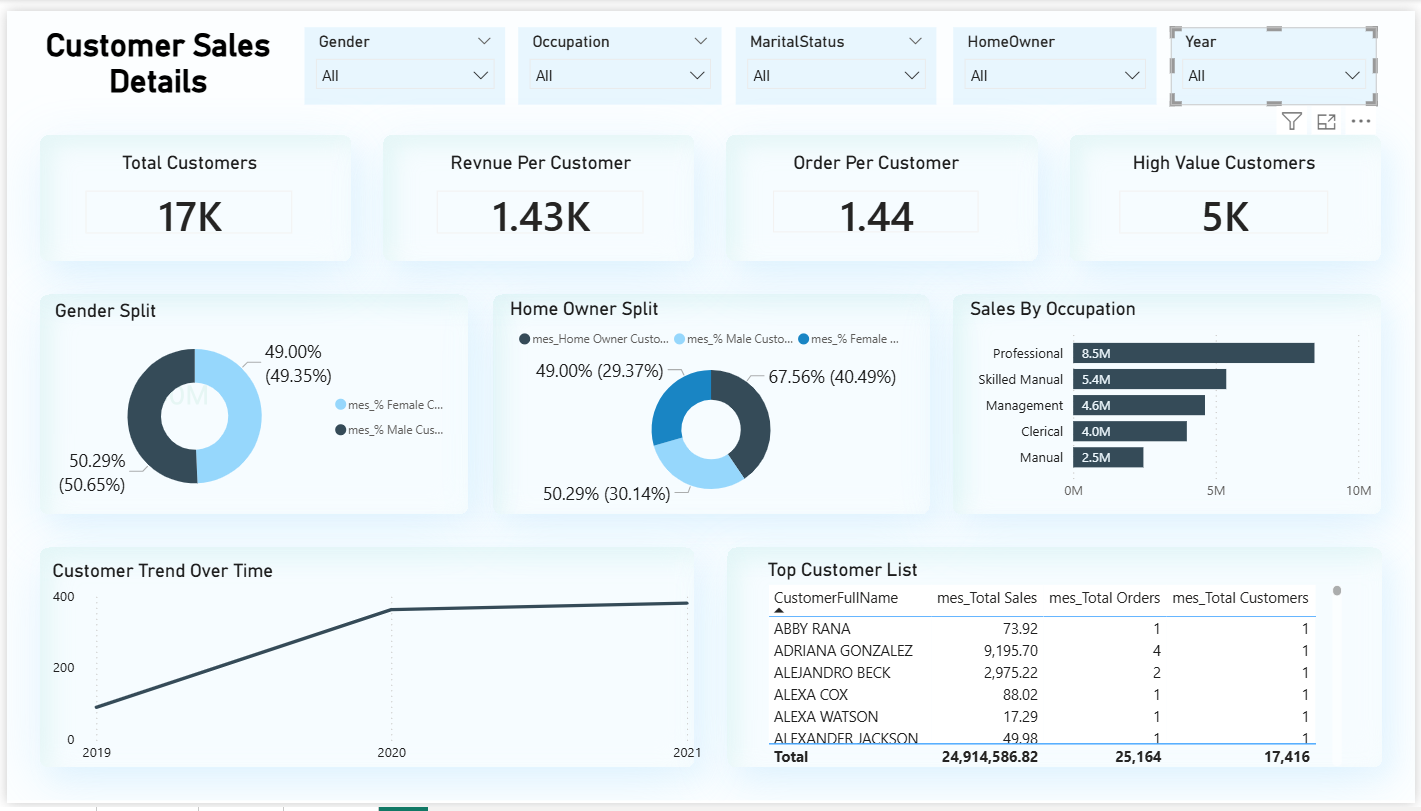

The dashboard page shown, as its layout file describes it:
{"tool":"powerbi","page":{"name":"Customer","canvas":[1280,720],"ordinal":0},"visuals":[{"type":"cardVisual","title":"Total Customers","fields":{"Data":["Customers (2).mes_Total Customers"]},"box":[54.3,127.1,222.9,92.9],"z":3000},{"type":"cardVisual","title":"Revnue Per Customer","fields":{"Data":["Customers (2).mes_Revenue Per Customer"]},"box":[374.3,127.1,222.9,92.9],"z":4000},{"type":"cardVisual","title":"Order Per Customer","fields":{"Data":["Customers (2).mes_Orders Per Customer"]},"box":[680,127.1,221.4,91.4],"z":5000},{"type":"cardVisual","title":"High Value Customers","fields":{"Data":["Customers (2).mes_High Value Customers"]},"box":[994.3,127.1,224.3,92.9],"z":6000},{"type":"donutChart","title":"Gender Split","fields":{"Y":["Customers (2).mes_% Female Customers","Customers (2).mes_% Male Customers"]},"box":[38.6,262.9,374.3,192.9],"z":7000},{"type":"donutChart","title":"Home Owner Split","fields":{"Y":["Customers (2).mes_Home Owner Customers %","Customers (2).mes_% Male Customers","Customers (2).mes_% Female Customers"]},"box":[452,260,376,194],"z":8000},{"type":"clusteredBarChart","title":"Sales By Occupation","fields":{"Category":["Customers (2).Occupation"],"Y":["Sales_19-21.mes_Total Sales"]},"box":[870,260,376,194],"z":9000},{"type":"lineChart","title":"Customer Trend Over Time","fields":{"Y":["Customers (2).mes_Total Customers"],"Category":["Target_19-21.Date.Variation.Date Hierarchy.Year"]},"box":[36.7,498.3,600,193.3],"z":10000},{"type":"tableEx","title":"Top Customer List","fields":{"Values":["Customers (2).CustomerFullName","Sales_19-21.mes_Total Sales","Sales_19-21.mes_Total Orders","Customers (2).mes_Total Customers"]},"box":[686,498,532,194],"z":11000},{"type":"slicer","title":"Gender","fields":{"Values":["Customers (2).Gender"]},"box":[270,15,182.5,70],"z":12000},{"type":"slicer","title":"Customer Occupation","fields":{"Values":["Customers (2).Occupation"]},"box":[465,15,185,70],"z":13000},{"type":"slicer","title":"Marital Status","fields":{"Values":["Customers (2).MaritalStatus"]},"box":[662.5,15,182.5,70],"z":14000},{"type":"slicer","title":"House Owner","fields":{"Values":["Customers (2).HomeOwner"]},"box":[860,15,185,70],"z":15000},{"type":"slicer","title":"Calendar[Year]","fields":{"Values":["Target_19-21.Date.Variation.Date Hierarchy.Year"]},"box":[1057.5,15,187.5,70],"z":16000},{"type":"textbox","box":[12.2,8.9,250,83.3],"z":17000}]}

Visuals, with their boxes in screenshot pixels (x1, y1, x2, y2), scaled from the page's 1280x720 canvas onto the 1421x811 screenshot:
"Total Customers" cardVisual: (60,143,308,248)
"Revnue Per Customer" cardVisual: (416,143,663,248)
"Order Per Customer" cardVisual: (755,143,1001,246)
"High Value Customers" cardVisual: (1104,143,1353,248)
"Gender Split" donutChart: (43,296,458,513)
"Home Owner Split" donutChart: (502,293,919,511)
"Sales By Occupation" clusteredBarChart: (966,293,1383,511)
"Customer Trend Over Time" lineChart: (41,561,707,779)
"Top Customer List" tableEx: (762,561,1352,779)
"Gender" slicer: (300,17,502,96)
"Customer Occupation" slicer: (516,17,722,96)
"Marital Status" slicer: (735,17,938,96)
"House Owner" slicer: (955,17,1160,96)
"Calendar[Year]" slicer: (1174,17,1382,96)
textbox: (14,10,291,104)
